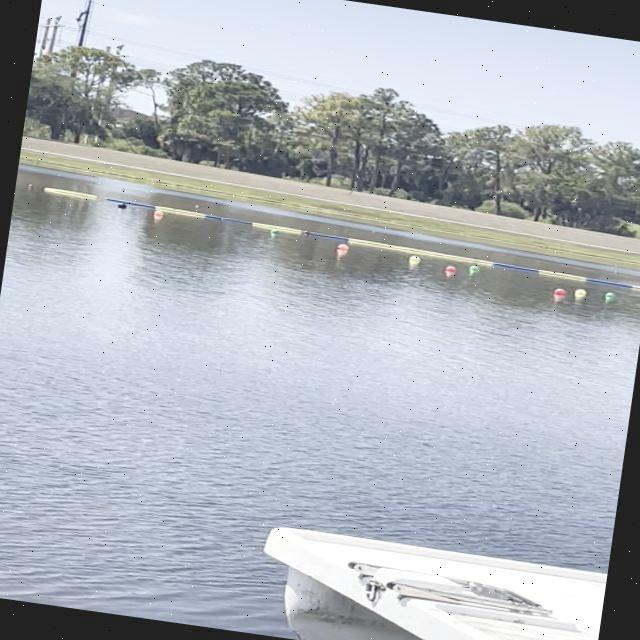buoy: (408, 254, 422, 263), (574, 288, 587, 296), (446, 266, 458, 274), (604, 291, 616, 299), (337, 244, 348, 252), (553, 288, 563, 296), (116, 202, 128, 208), (154, 210, 164, 217), (270, 229, 280, 236), (469, 265, 479, 272)
